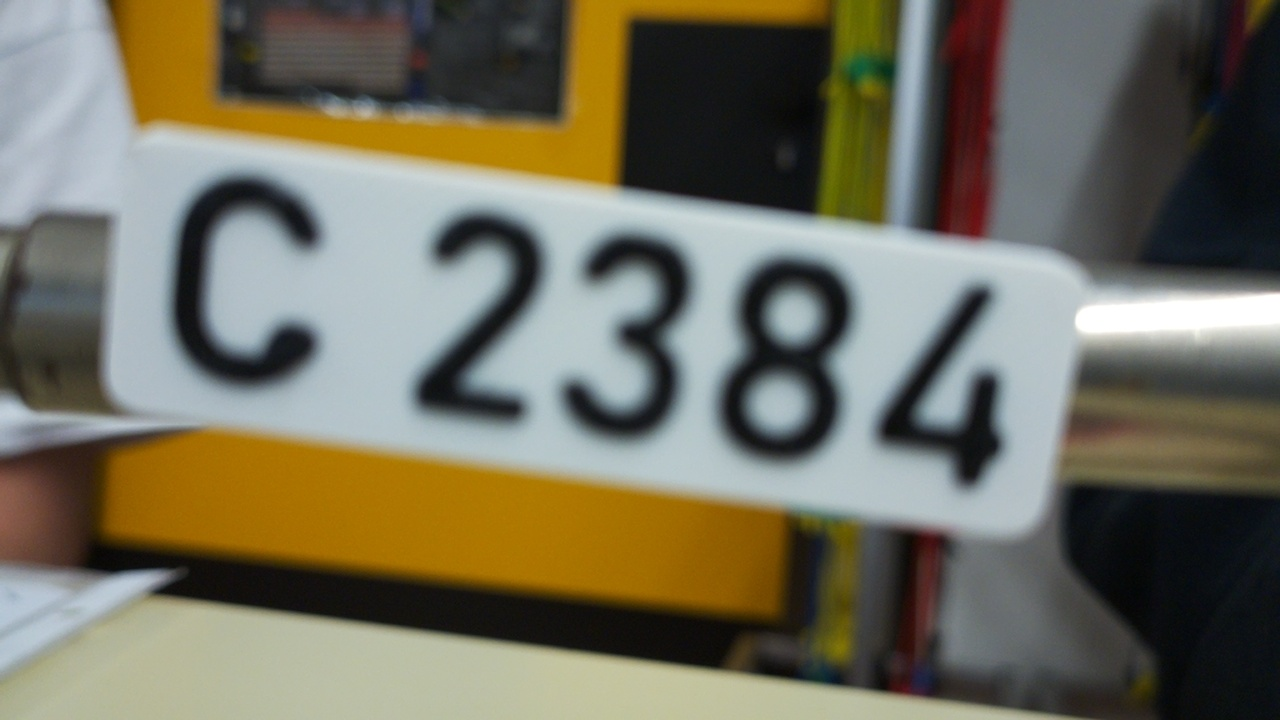license_plate: (103, 108, 1090, 544)
